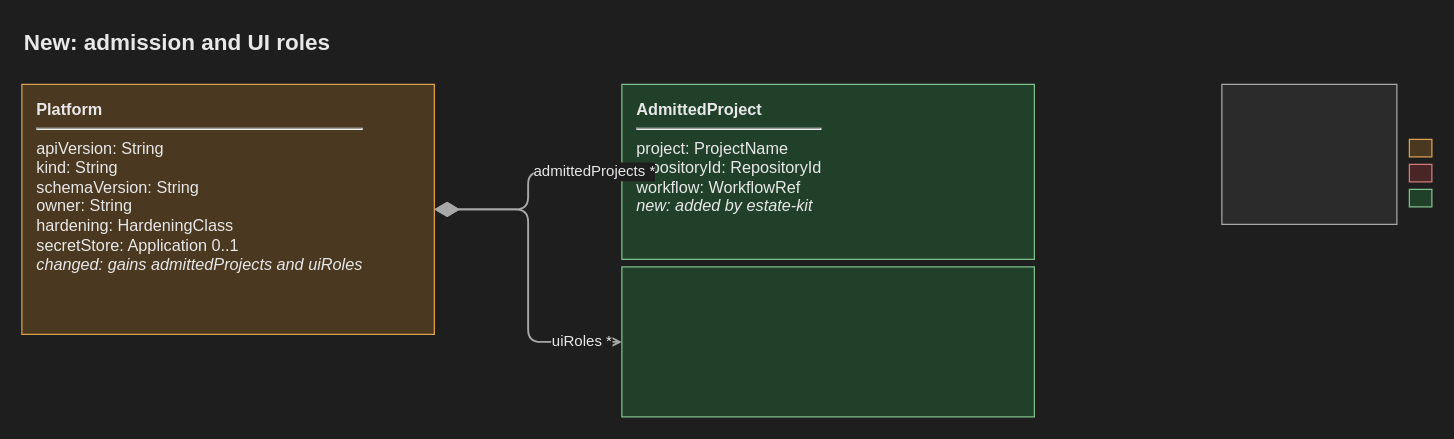
Image size: 1454x439. Some labels were removed from this diagram. The shapes that lost their labels are listed below. From the top down, each one's centre as x and y in pixels, then its label:
point (1309, 153): Legend carried over changed removed new
point (827, 341): UiRole group: IdpGroup role: Viewer | Operator | Admin new: added by estate-kit
